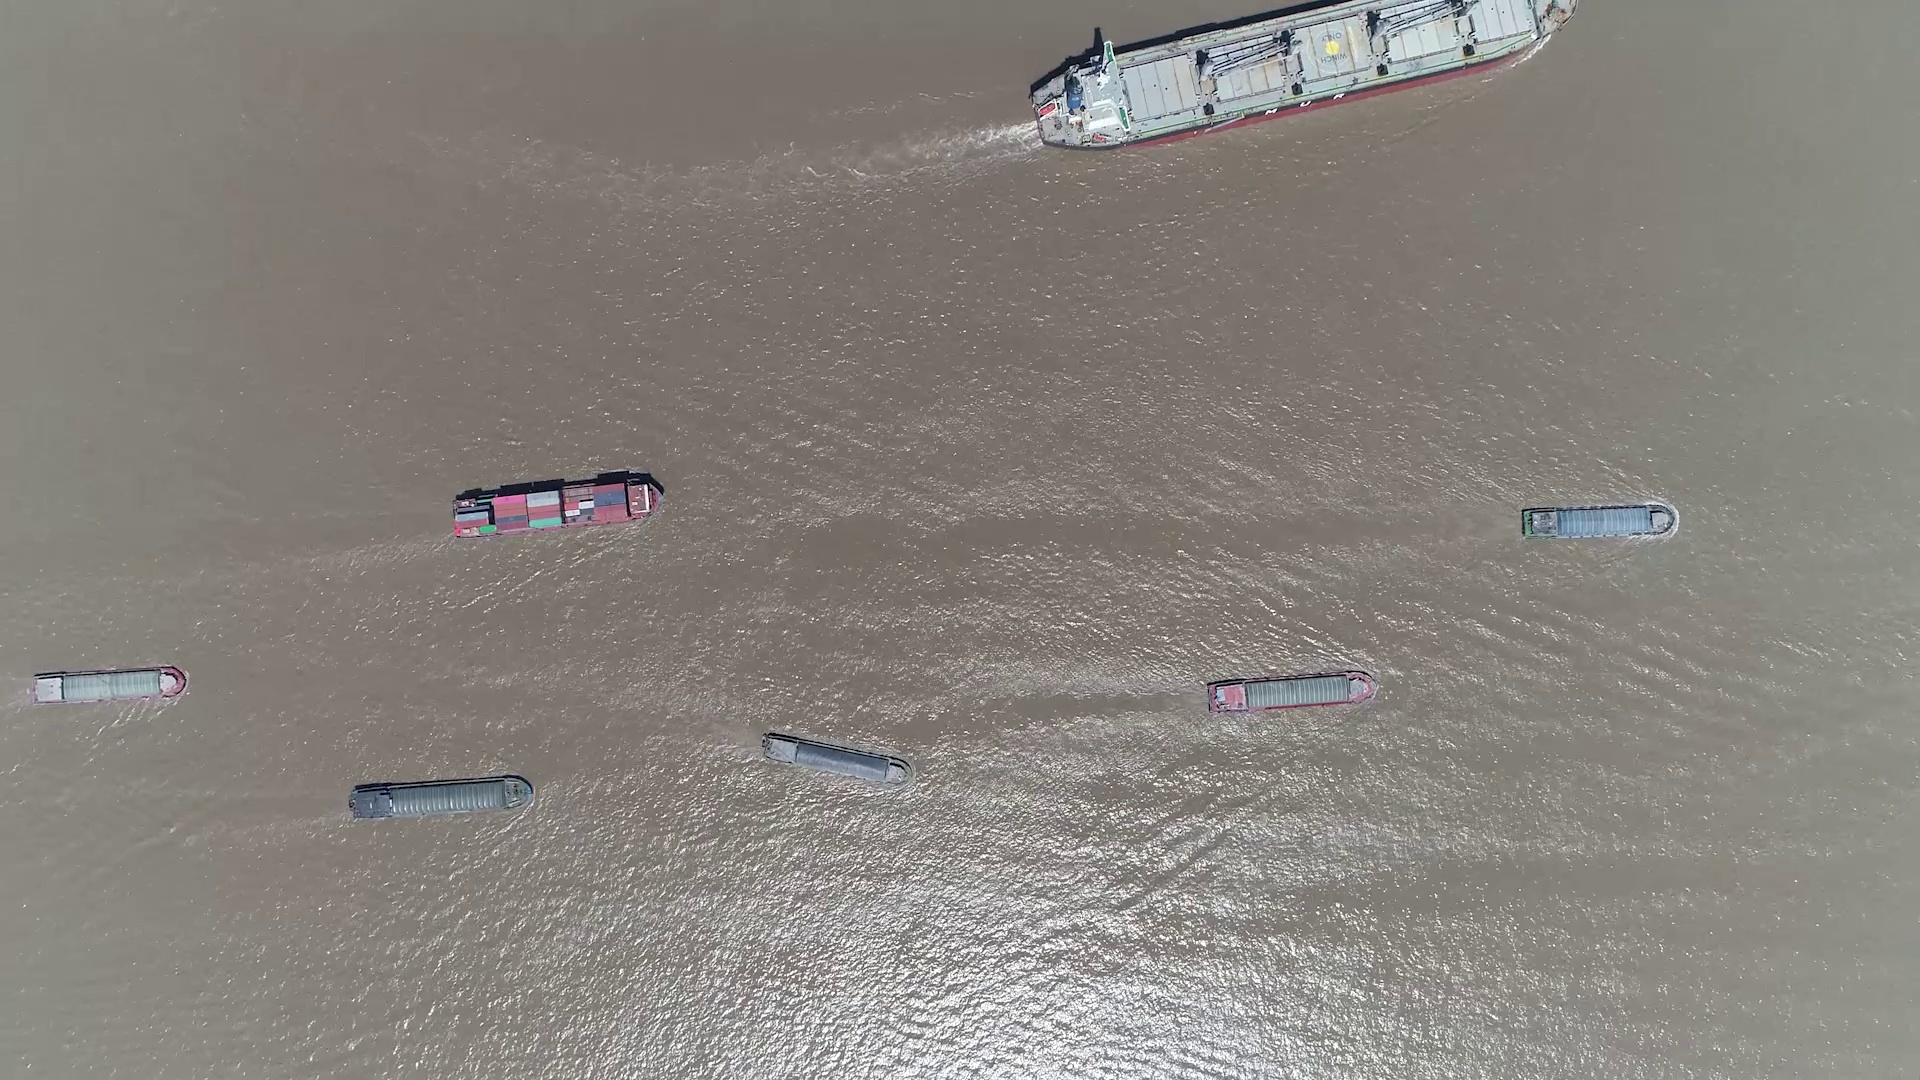ship: (1021, 0, 1578, 145), (452, 473, 663, 538), (349, 775, 534, 820), (760, 732, 909, 787), (1207, 673, 1375, 713), (30, 666, 186, 704), (1522, 504, 1677, 539)
